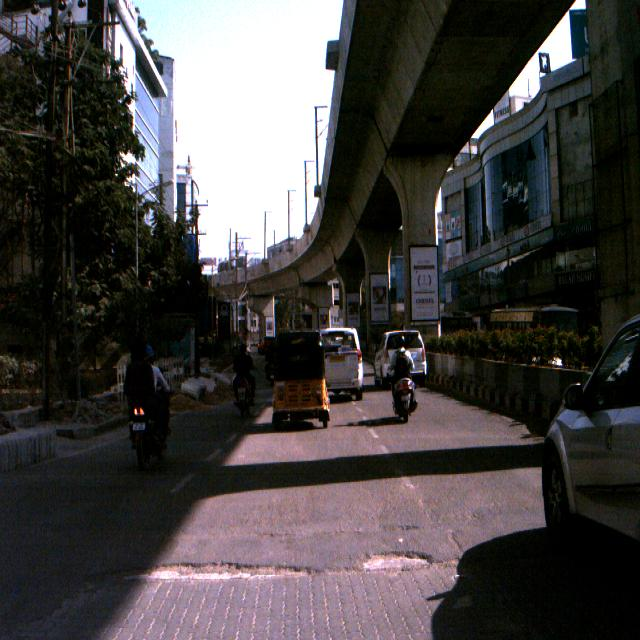auto ahead at: (259, 332, 342, 443)
motorcycle ahead at: (113, 397, 173, 473), (388, 374, 420, 431)
